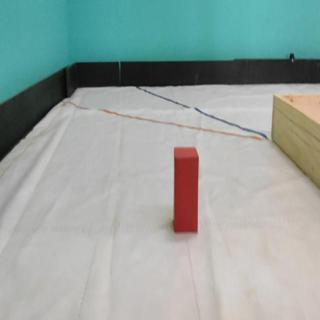redbox: (174, 148, 199, 232)
